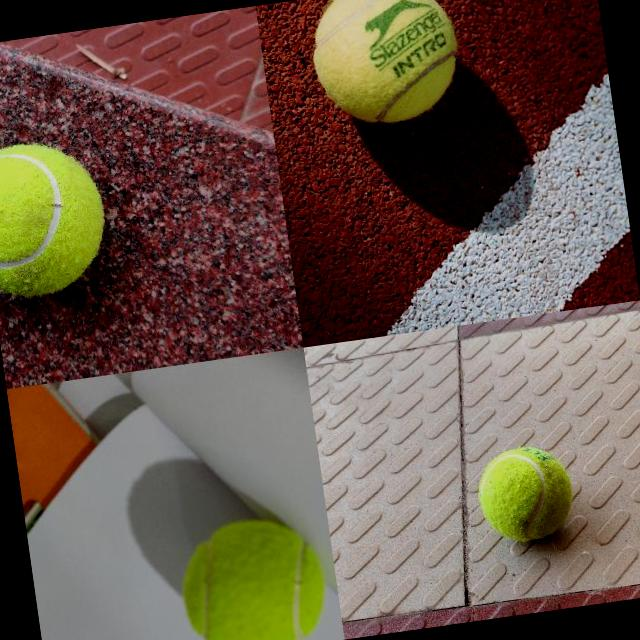Tennis Ball: (305, 0, 468, 133), (172, 508, 333, 640), (0, 135, 114, 301), (473, 441, 577, 546)
